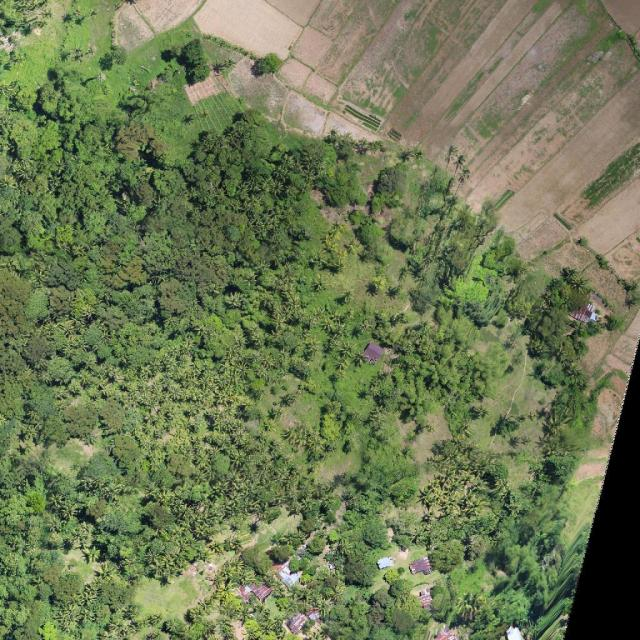building: (201, 322, 204, 326)
